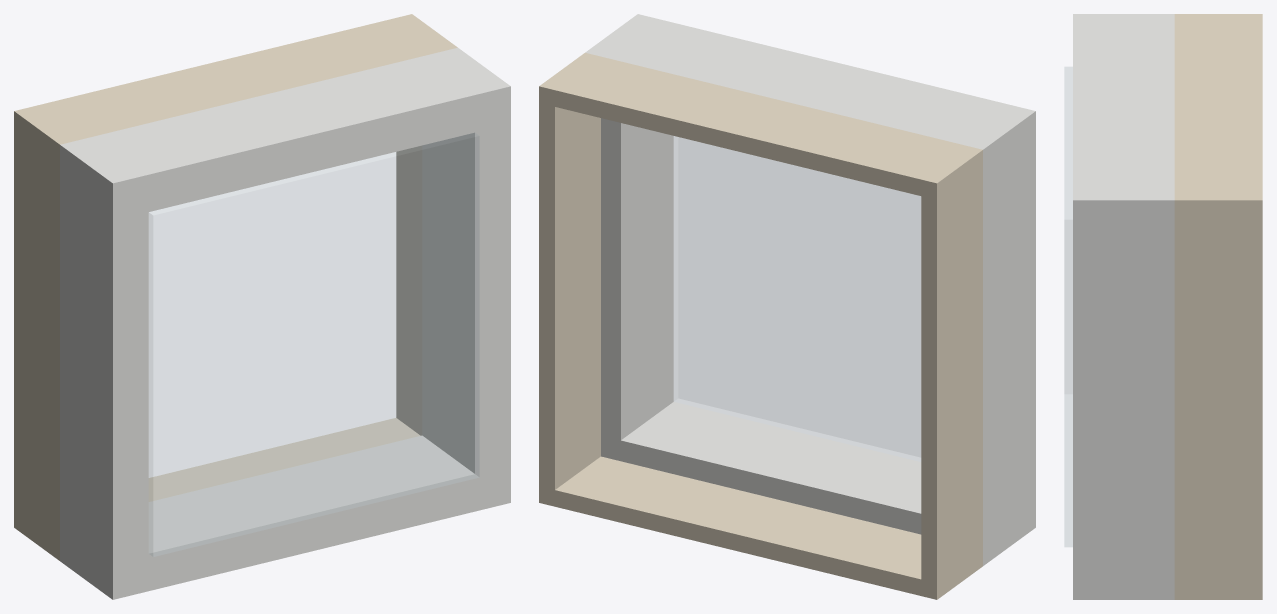
The picture shows the model from 3 angles, left to right: view 1: azimuth 30°, elevation 25°; view 2: azimuth 150°, elevation 25°; view 3: azimuth 270°, elevation 25°; orthographic projection. The views are drawn at different scales.
Parts seen in each view (by area): view 1: Curb, Glass, Lining; view 2: Lining, Curb, Glass; view 3: Curb, Lining, Glass.
Part boxes in pixels (<box>): Curb: <box>60,47,510,599</box>; Glass: <box>149,133,479,556</box>; Lining: <box>14,14,457,560</box>; Lining: <box>539,52,982,599</box>; Curb: <box>585,14,1035,565</box>; Glass: <box>674,136,920,461</box>; Curb: <box>1073,14,1174,599</box>; Lining: <box>1174,14,1262,599</box>; Glass: <box>1064,67,1072,546</box>.
Bounding box in the file's own units: 1 × 1 × 0.45.
